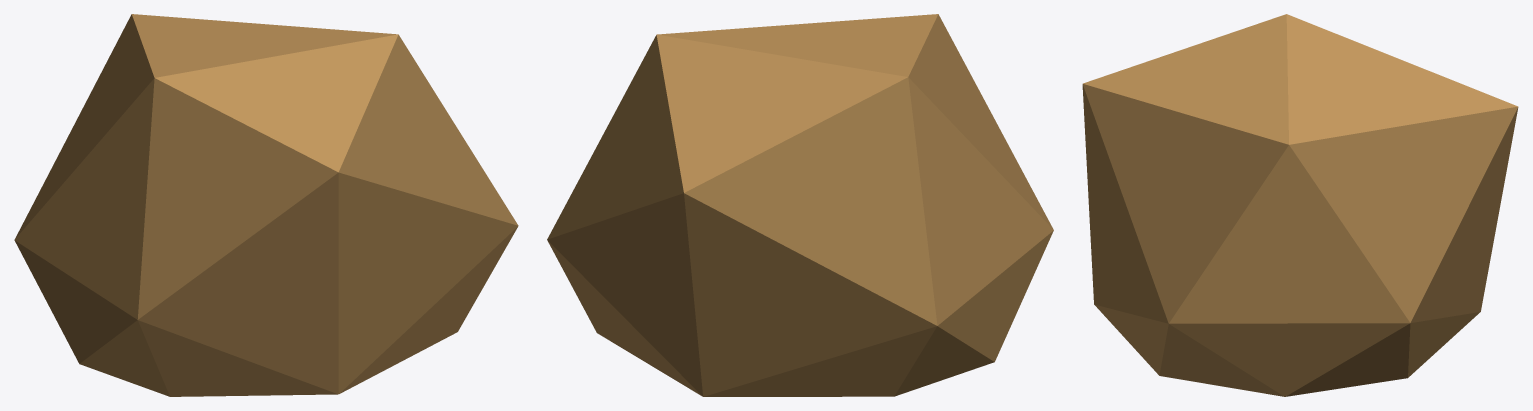
The model's file is TB_D_Env_GrassE_B.FBX.
3 renders of one model, left to right at view 1: azimuth 30°, elevation 25°; view 2: azimuth 150°, elevation 25°; view 3: azimuth 270°, elevation 25°, orthographic. The views are drawn at different scales.
Visible parts, largest first — view 1: TB_D_Env_GrassE_B; view 2: TB_D_Env_GrassE_B; view 3: TB_D_Env_GrassE_B.
Boxes of the visible parts, x1,y1,x2,y2 form: TB_D_Env_GrassE_B: [14, 14, 518, 396]; TB_D_Env_GrassE_B: [547, 14, 1053, 396]; TB_D_Env_GrassE_B: [1082, 14, 1518, 396].
Size of the model in its own units: 1.62 by 1.05 by 1.65.
